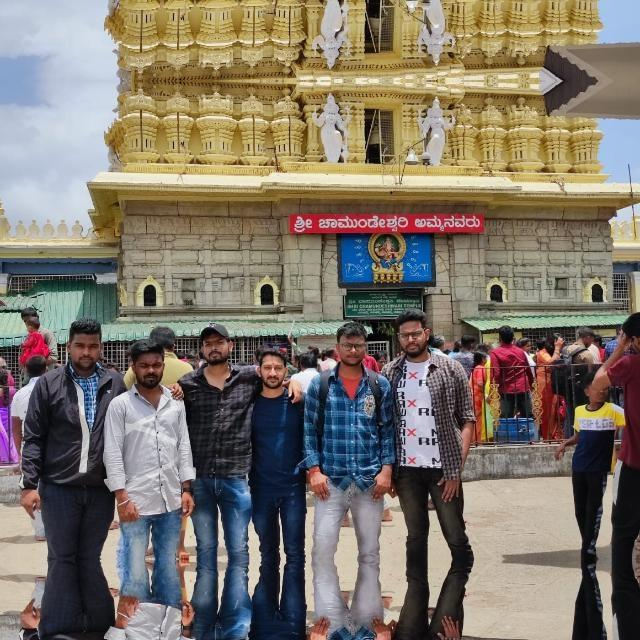person: (392, 303, 484, 559), (311, 314, 395, 560), (111, 340, 203, 558), (38, 313, 120, 519), (189, 320, 255, 544), (252, 347, 312, 559), (391, 559, 484, 640), (111, 559, 203, 640), (311, 558, 395, 640), (251, 559, 312, 640), (189, 574, 255, 640), (38, 599, 120, 640)
